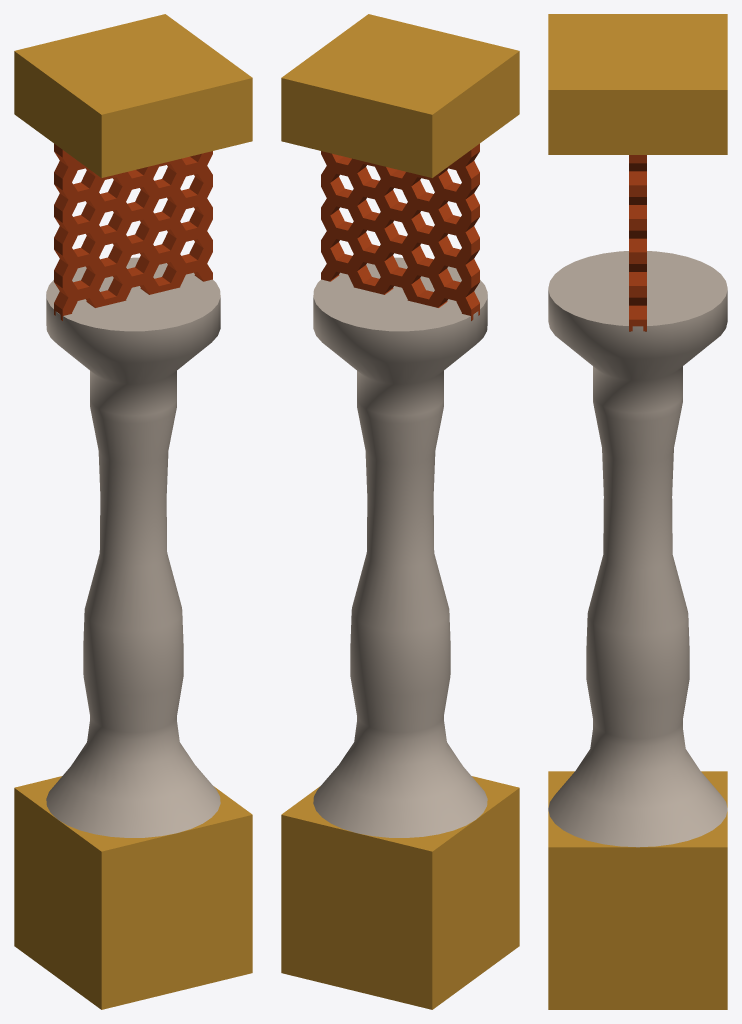
The model's file is Fence.fbx.
3 views of the same model, side by side, from view 1: azimuth 30°, elevation 25°; view 2: azimuth 150°, elevation 25°; view 3: azimuth 270°, elevation 25° (orthographic). The views are drawn at different scales.
Parts seen in each view (by area): view 1: Fence, Cube.043, Cube.044, HoneyComb.002; view 2: Fence, Cube.043, Cube.044, HoneyComb.002; view 3: Fence, Cube.043, Cube.044, HoneyComb.002.
Part boxes in pixels (x1,y1,x2,y2): Fence: (46, 257, 220, 837); Cube.043: (14, 776, 252, 1009); Cube.044: (14, 14, 252, 177); HoneyComb.002: (54, 143, 212, 320); Fence: (313, 257, 487, 837); Cube.043: (281, 776, 519, 1009); Cube.044: (281, 14, 519, 177); HoneyComb.002: (321, 143, 479, 320); Fence: (548, 251, 727, 847); Cube.043: (548, 771, 727, 1009); Cube.044: (548, 14, 727, 154); HoneyComb.002: (629, 155, 646, 331).
Bounding box in the file's own units: 20 × 113 × 20.
